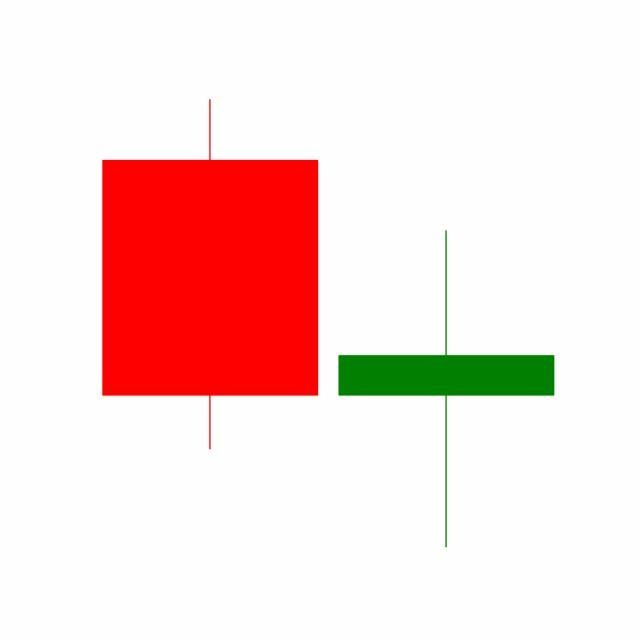Spinning Top: (328, 227, 566, 551)
